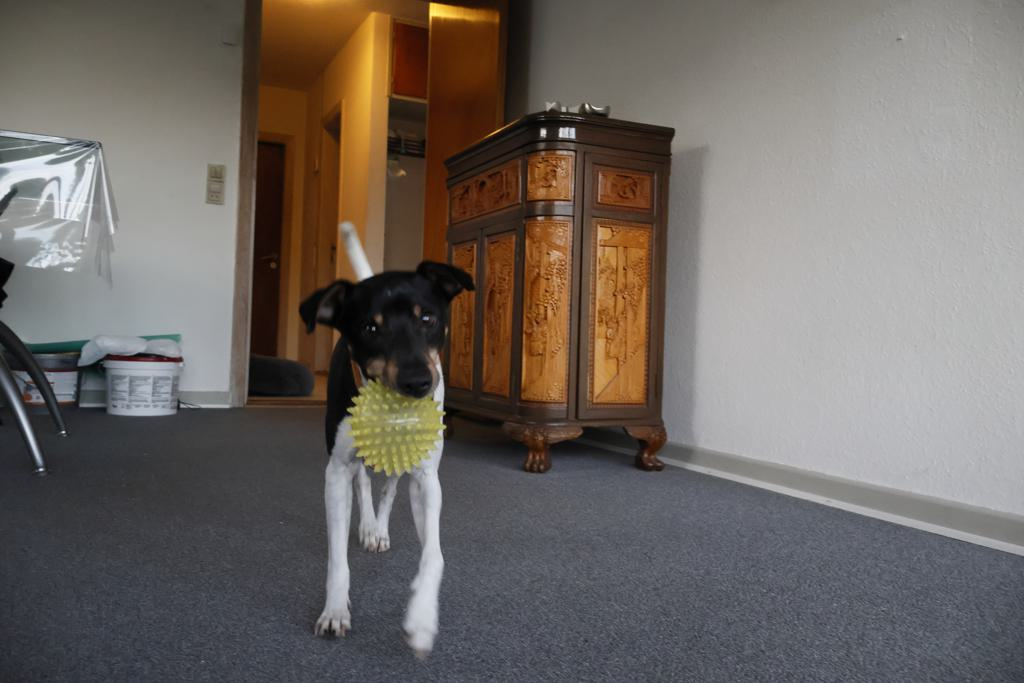Dog: (286, 208, 483, 679)
